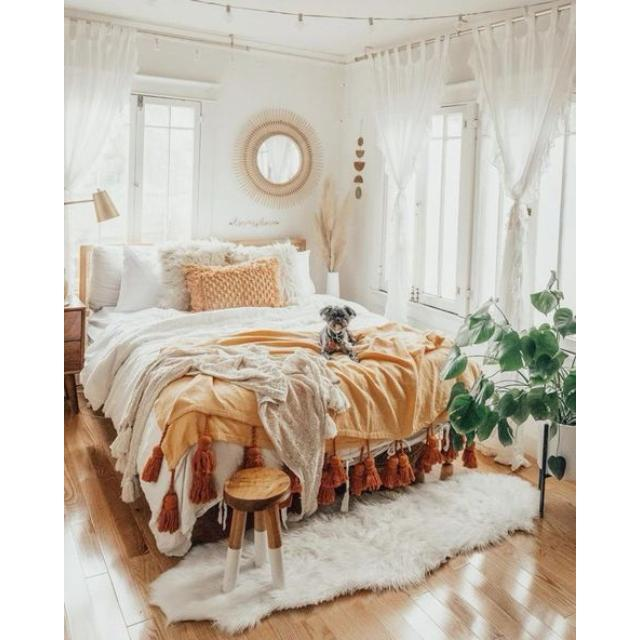bed: (82, 241, 450, 556), (419, 450, 430, 471)
curtain: (470, 6, 575, 328), (373, 39, 446, 321), (64, 19, 136, 191)
light: (64, 189, 120, 222)
plant: (444, 274, 576, 516)
rug: (150, 471, 538, 632)
table: (64, 299, 85, 413)
